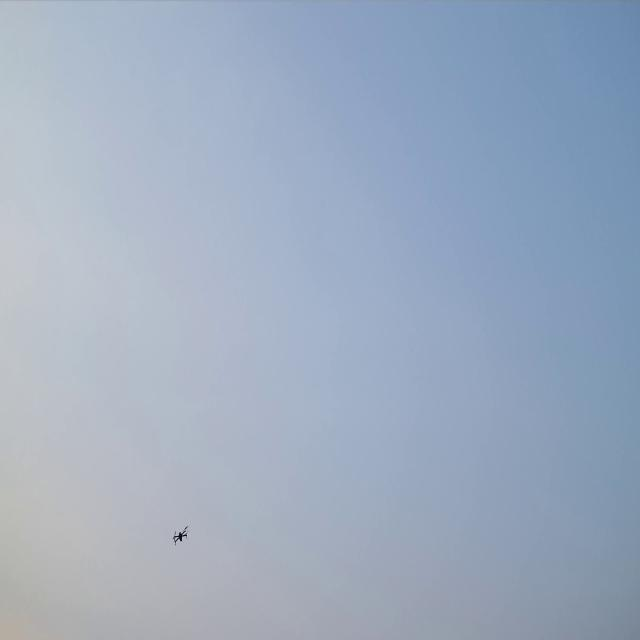UAV: (172, 525, 190, 547)
